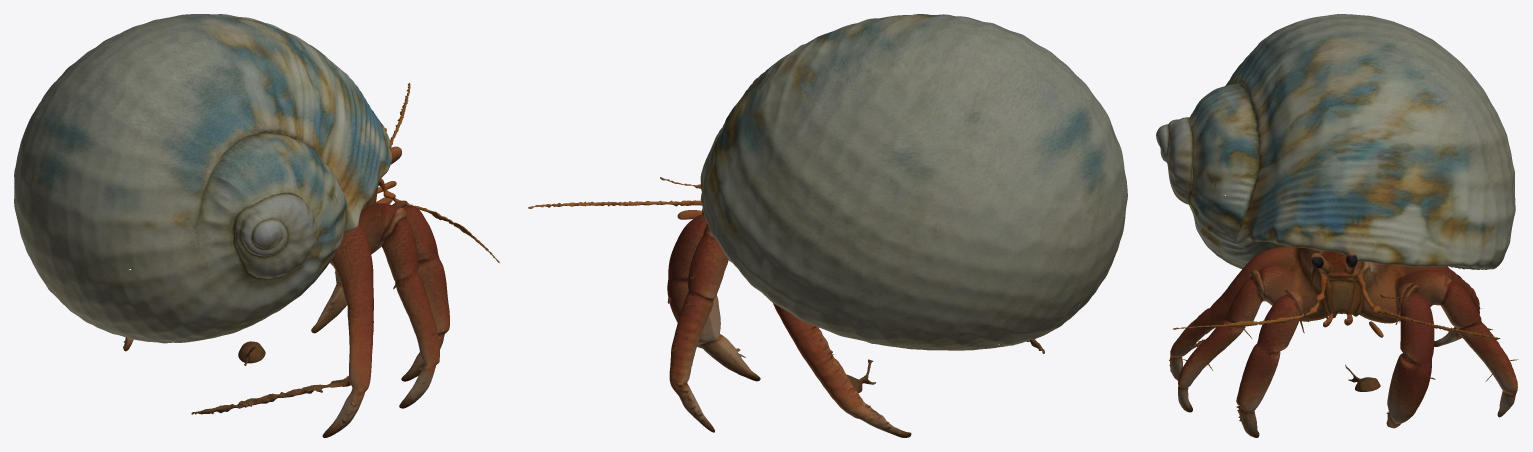
The model's file is xie.glb.
3 views of the same model, side by side, from view 1: azimuth 30°, elevation 25°; view 2: azimuth 150°, elevation 25°; view 3: azimuth 270°, elevation 25° (orthographic). The views are drawn at different scales.
Parts seen in each view (by area): view 1: tripo_node_b5816467-1e30-47bd-abe1-83c4cdc0c54c; view 2: tripo_node_b5816467-1e30-47bd-abe1-83c4cdc0c54c; view 3: tripo_node_b5816467-1e30-47bd-abe1-83c4cdc0c54c.
Boxes of the visible parts, x1,y1,x2,y2 form: tripo_node_b5816467-1e30-47bd-abe1-83c4cdc0c54c: [14, 14, 499, 437]; tripo_node_b5816467-1e30-47bd-abe1-83c4cdc0c54c: [528, 14, 1127, 437]; tripo_node_b5816467-1e30-47bd-abe1-83c4cdc0c54c: [1156, 14, 1518, 437].
Bounding box in the file's own units: 0.9781 × 0.7267 × 0.7219.
Materials: 1 (1 with a texture image).
